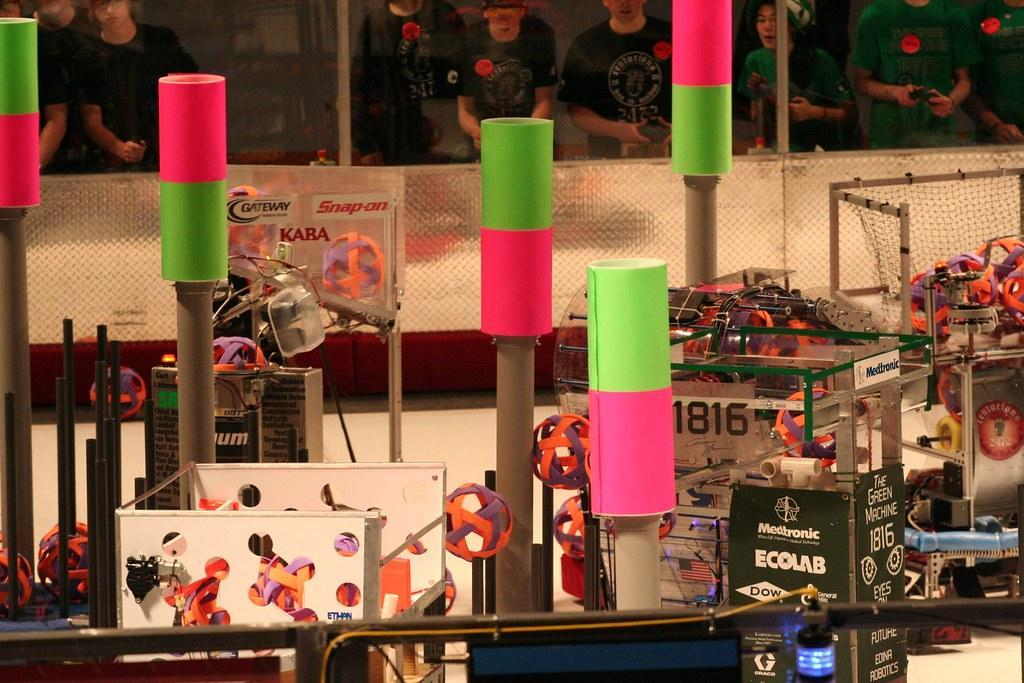robot: (536, 312, 950, 683), (821, 137, 1024, 650)
